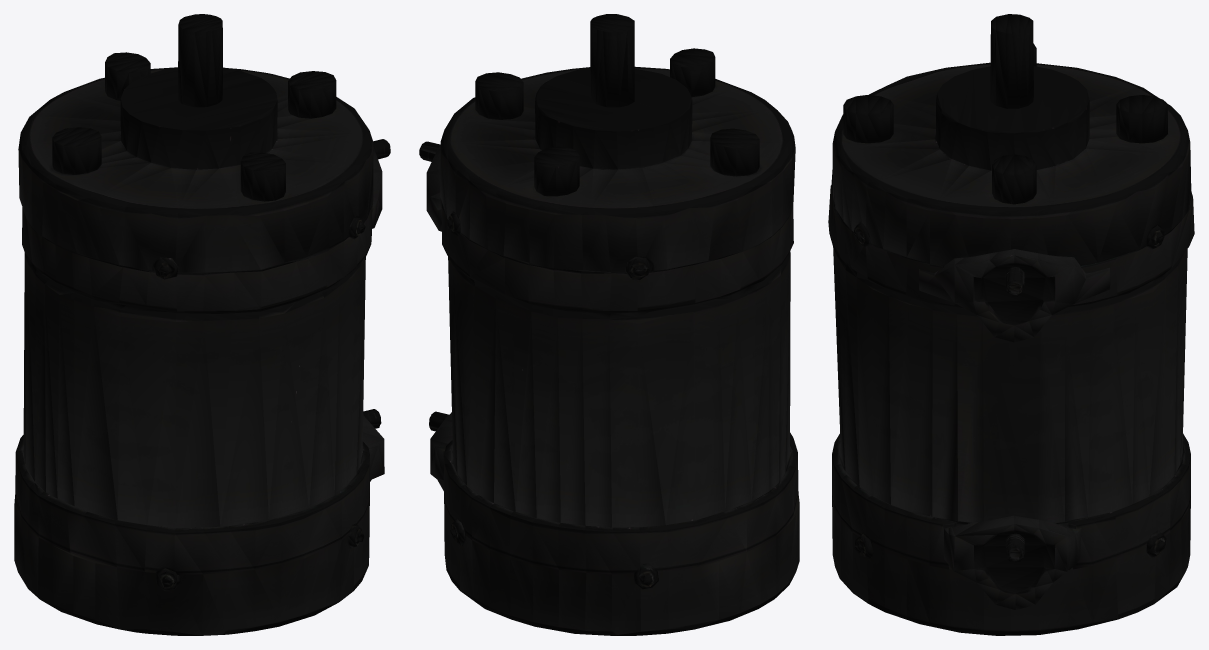
Rendered from engine_electric.glb.
3 views of the same model, side by side, from view 1: azimuth 30°, elevation 25°; view 2: azimuth 150°, elevation 25°; view 3: azimuth 270°, elevation 25° (orthographic).
Parts seen in each view (by area): view 1: tripo_node_f98ebd47; view 2: tripo_node_f98ebd47; view 3: tripo_node_f98ebd47.
Boxes of the visible parts, x1,y1,x2,y2 form: tripo_node_f98ebd47: (14,14,390,635); tripo_node_f98ebd47: (419,14,799,635); tripo_node_f98ebd47: (828,14,1194,635).
Bounding box in the file's own units: 0.6817 × 0.9981 × 0.6099.
Materials: 1 (1 with a texture image).
